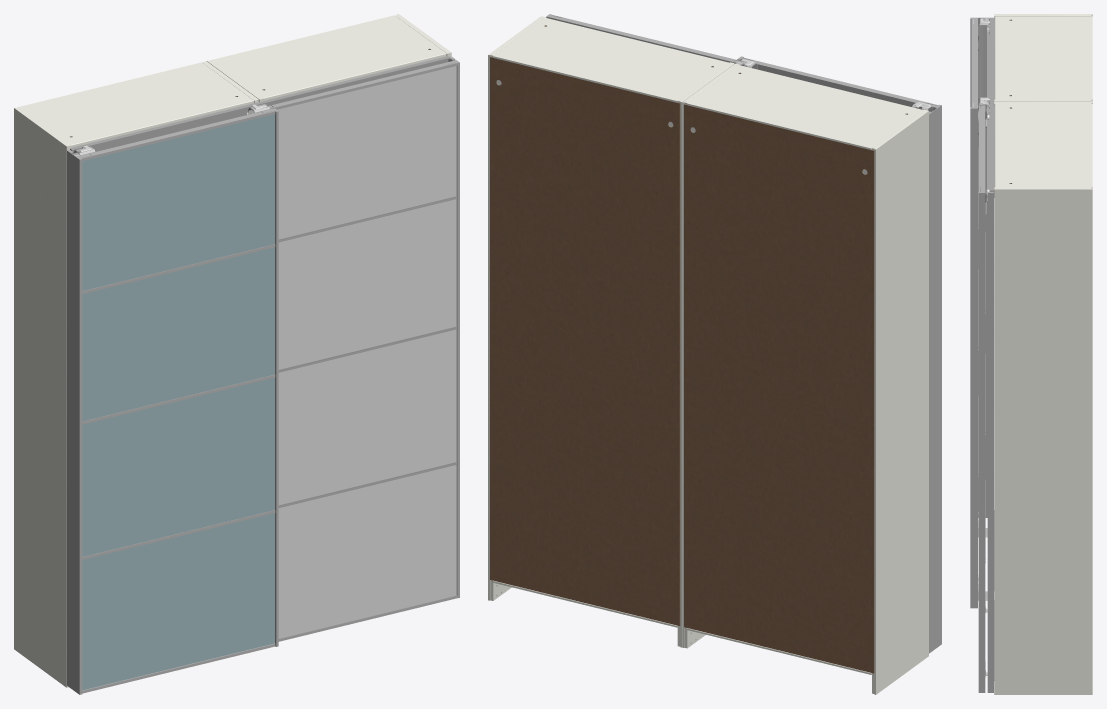
Rendered from pax_mehamn_auli_szafa_z_przesuwanymi_drzwiami_39551703.glb.
The picture shows the model from 3 angles, left to right: view 1: azimuth 30°, elevation 25°; view 2: azimuth 150°, elevation 25°; view 3: azimuth 270°, elevation 25°; orthographic projection. The views are drawn at different scales.
Parts seen in each view (by area): view 1: pax_mehamn_auli_szafa_z_przesuwanymi_drzwiami_39551703; view 2: pax_mehamn_auli_szafa_z_przesuwanymi_drzwiami_39551703; view 3: pax_mehamn_auli_szafa_z_przesuwanymi_drzwiami_39551703.
Boxes of the visible parts, x1,y1,x2,y2 form: pax_mehamn_auli_szafa_z_przesuwanymi_drzwiami_39551703: (14,14,459,694); pax_mehamn_auli_szafa_z_przesuwanymi_drzwiami_39551703: (488,14,941,694); pax_mehamn_auli_szafa_z_przesuwanymi_drzwiami_39551703: (970,14,1092,694).
Size of the model in its own units: 1.5 by 2.01 by 0.441.
Materials: 16 (2 with a texture image).
